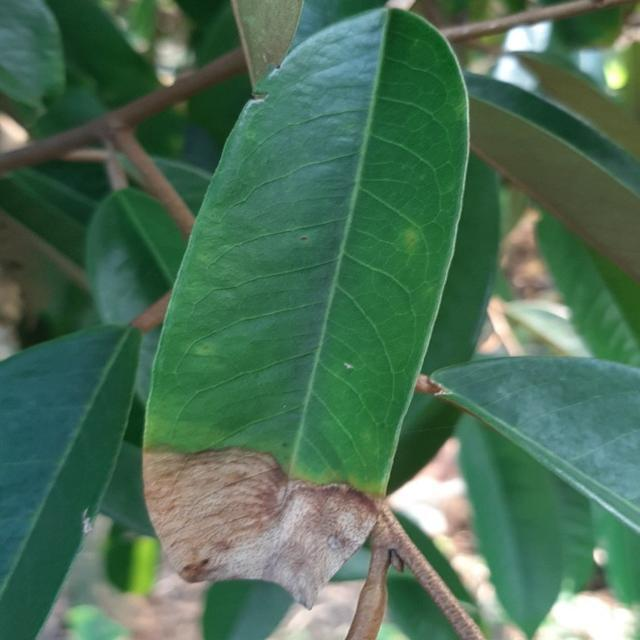Leaf Blight: (117, 19, 474, 633)
